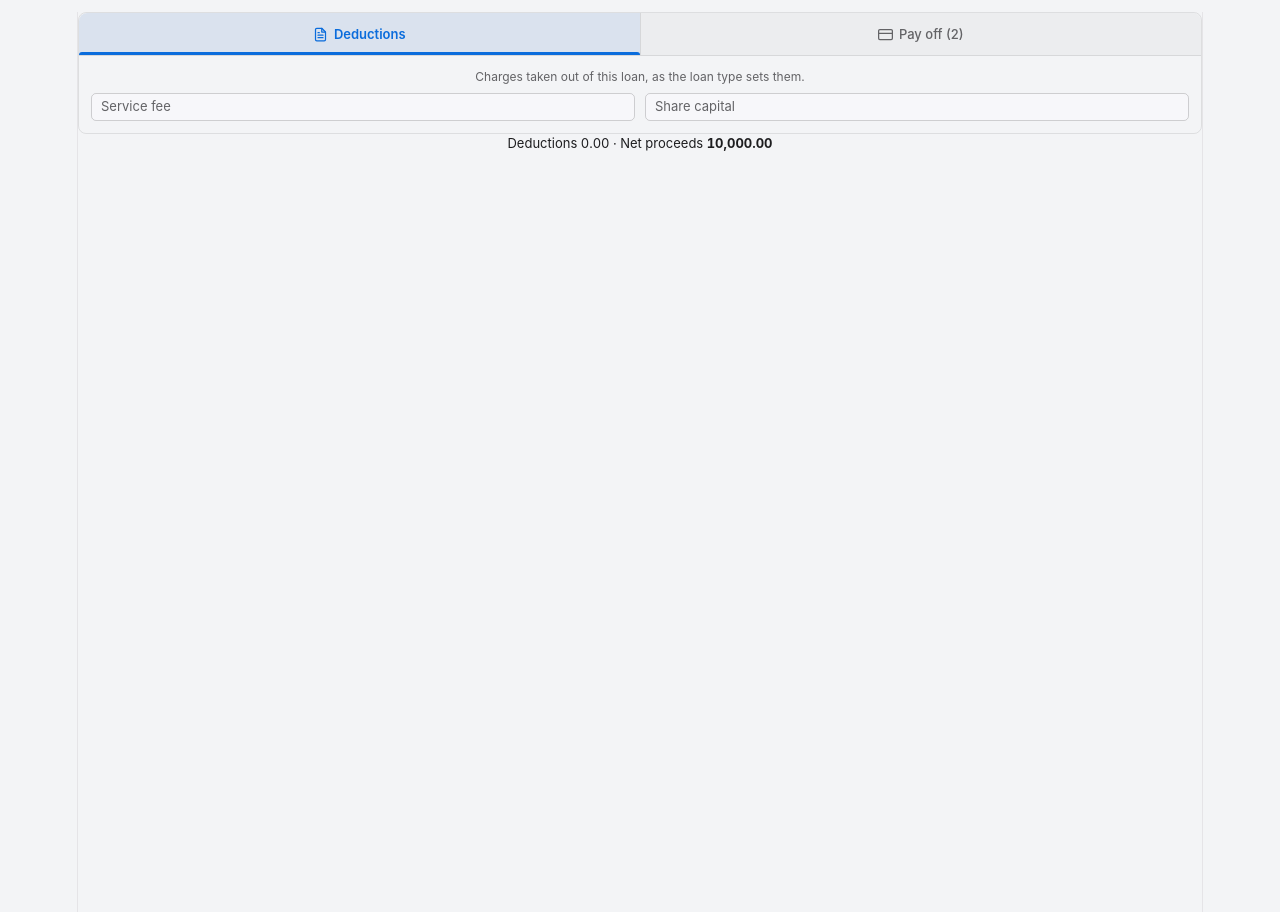
Test case: Deductions and pay off › shows each earlier loan with its balance and due date, and how late it is when it is
Click the tab "Pay off (2)" at (920, 34), box top-left (640, 13), bottom-right (1201, 55)
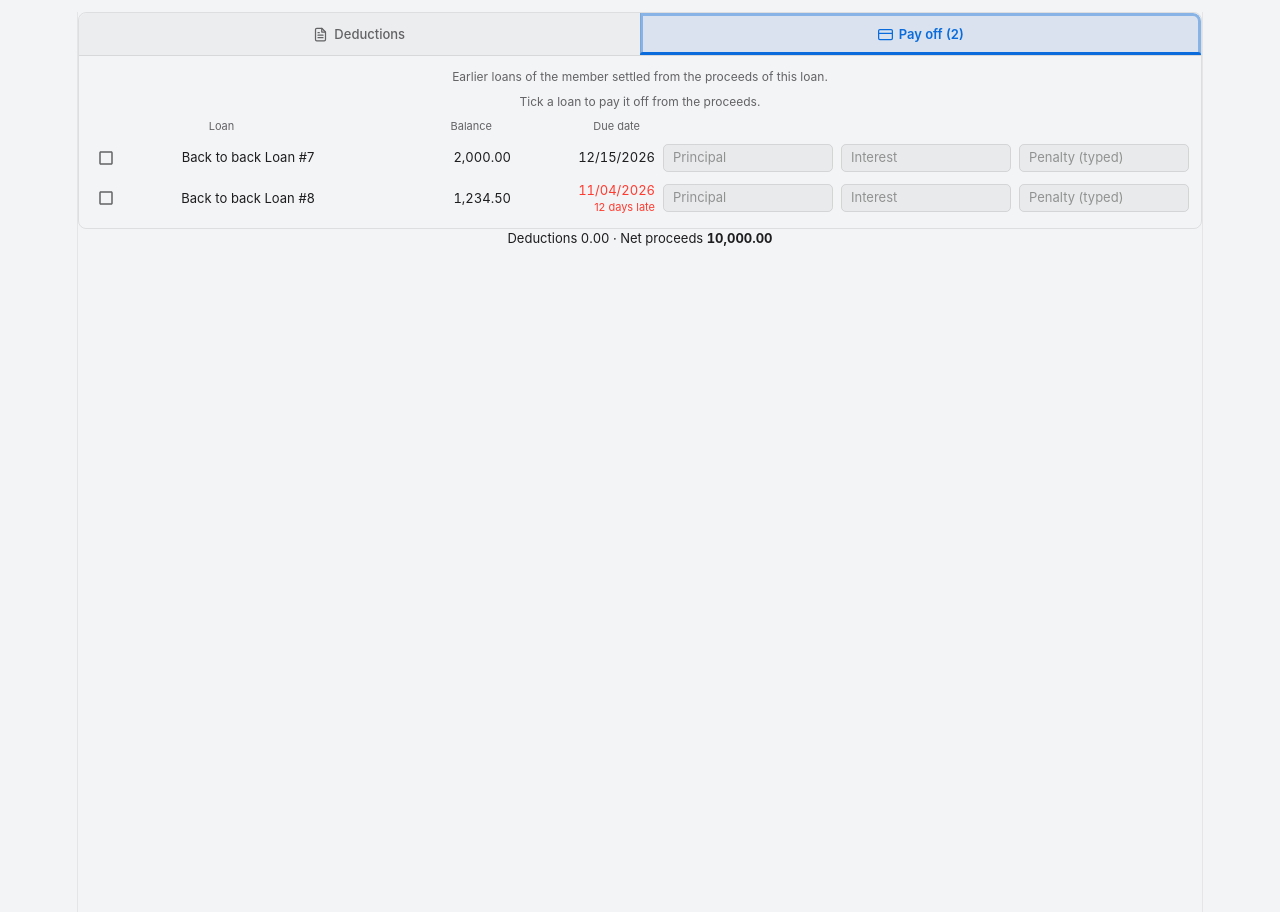
expect the text named "Balance 2,000.00" is shown: met, box top-left (453, 149), bottom-right (511, 165)
expect the element named "Due date 12/15/2026" is shown: met, box top-left (578, 149), bottom-right (655, 165)
expect the text named "Balance 1,234.50" is shown: met, box top-left (453, 190), bottom-right (511, 206)
